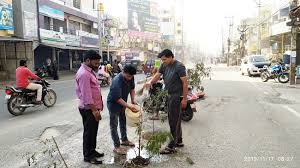pothole: (30, 124, 75, 166)
